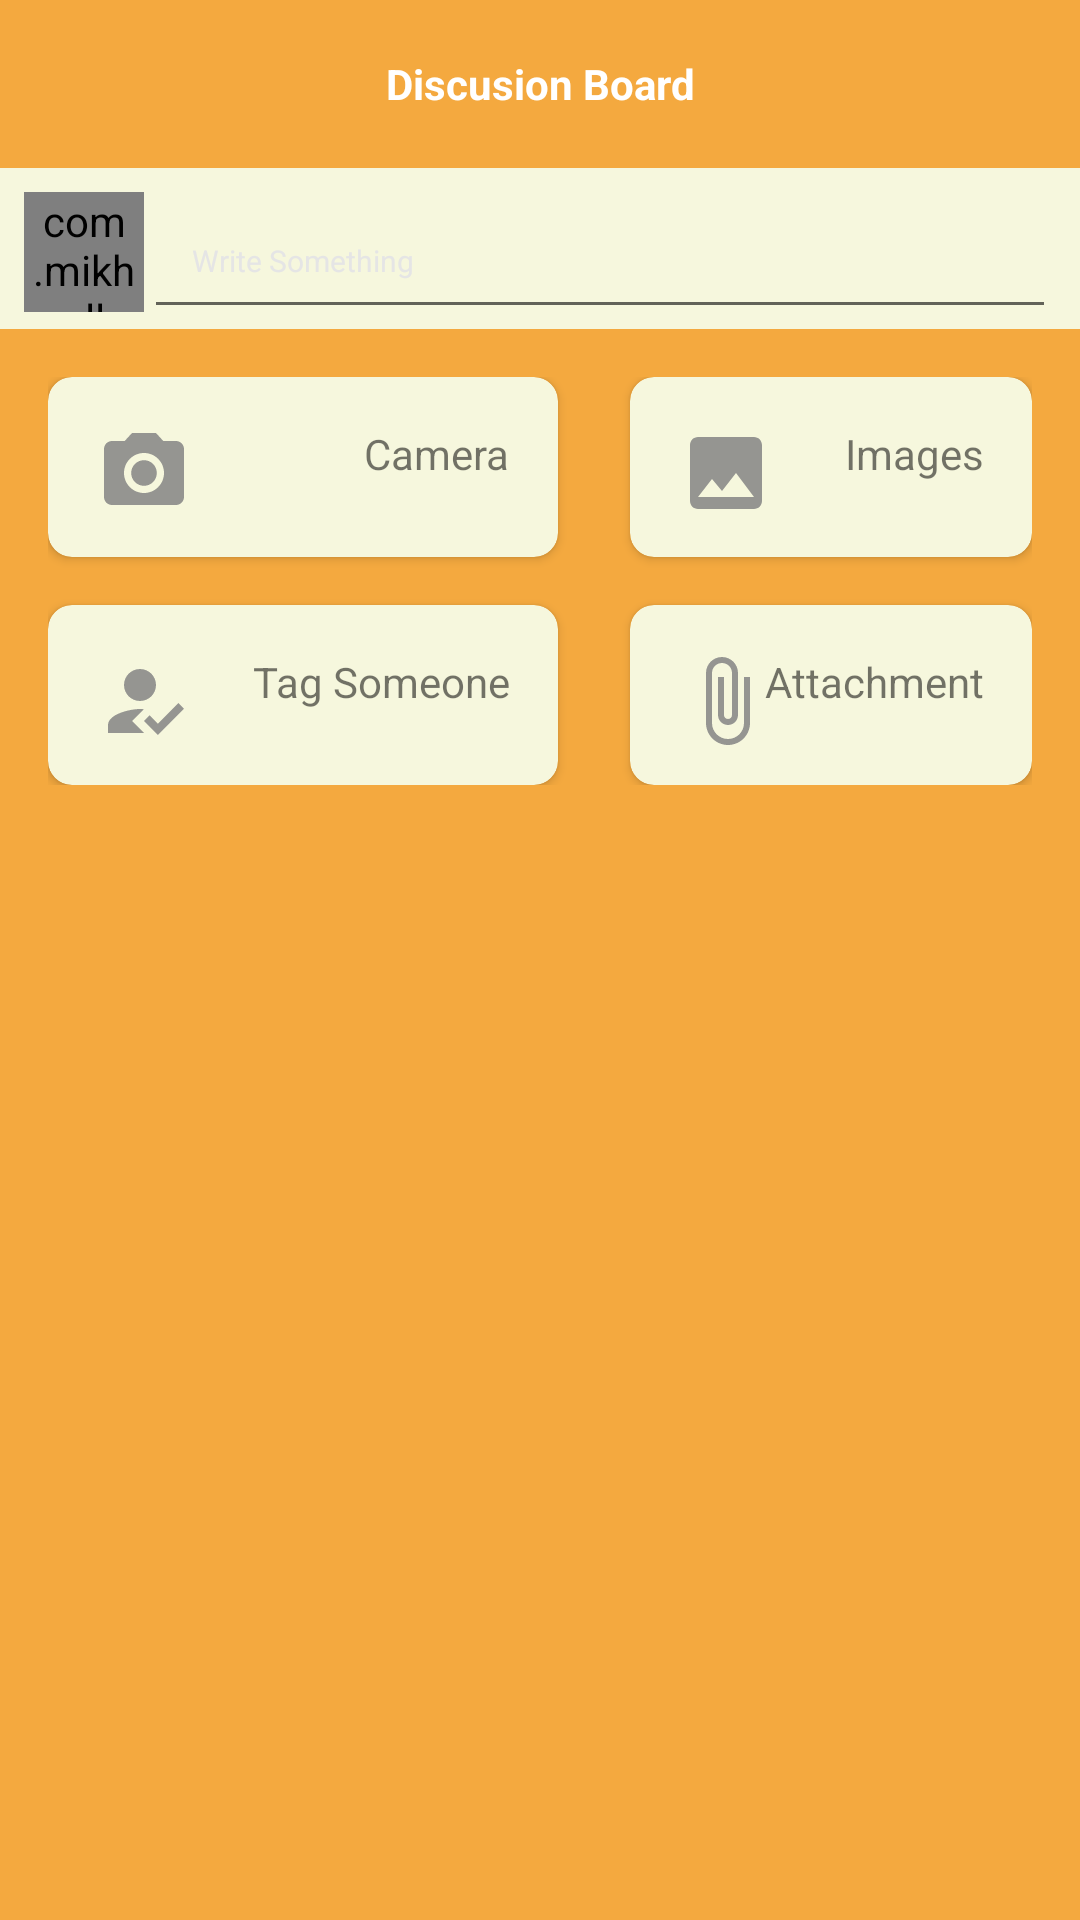

Where to tap for icons on this 1080 x 1920 app screen, as (x=x, y=y):
camera: (x=144, y=469)
icmage: (x=726, y=473)
icreg: (x=146, y=702)
